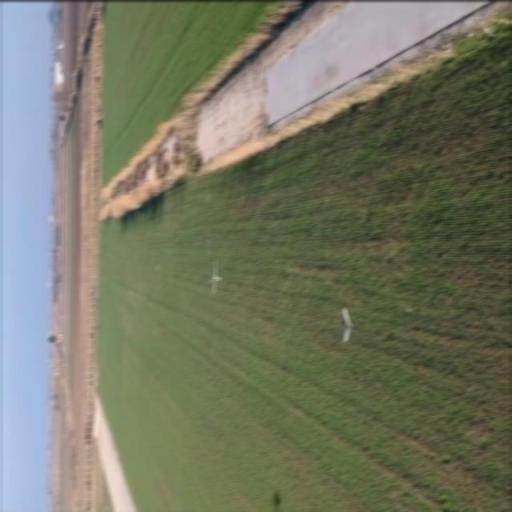uav: (336, 306, 358, 341), (207, 260, 225, 295)
